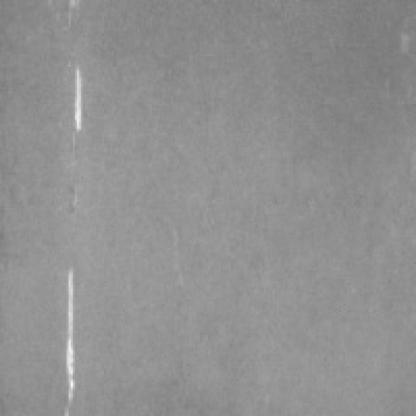scratches: (50, 260, 83, 412), (63, 60, 86, 136)
